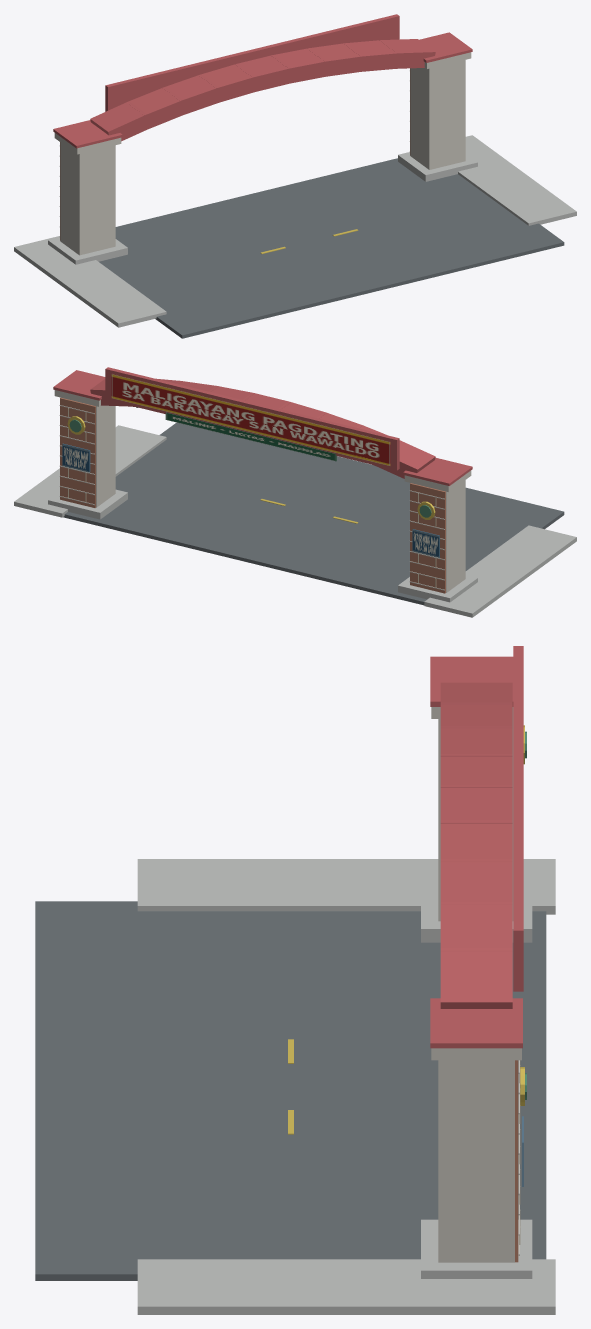
The model's file is Barangay_San_Wawaldo_Welcome_Arch.glb.
3 renders of one model, top to bottom at view 1: azimuth 30°, elevation 25°; view 2: azimuth 150°, elevation 25°; view 3: azimuth 270°, elevation 25°, orthographic. The views are drawn at different scales.
Visible parts, largest first — view 1: 0077_Roadway_Reference_Pad, 0003_Arch_Main_Pillar, 0029_Arch_Main_Pillar, 0080_Arch_Sidewalk, 0064_Arch_Sign_Board, 0081_Arch_Sidewalk, 0055_Curved_Arch_Beam_Segment, 0057_Curved_Arch_Beam_Segment, 0056_Curved_Arch_Beam_Segment, 0058_Curved_Arch_Beam_Segment, 0059_Curved_Arch_Beam_Segment, 0060_Curved_Arch_Beam_Segment (+8 smaller); view 2: 0077_Roadway_Reference_Pad, 0066_Barangay_Welcome_Sign_TexturedFace, 0080_Arch_Sidewalk, 0064_Arch_Sign_Board, 0030_Pillar_Brick_Cladding, 0004_Pillar_Brick_Cladding, 0081_Arch_Sidewalk, 0003_Arch_Main_Pillar, 0029_Arch_Main_Pillar, 0068_Barangay_Motto_TexturedFace, 0026_Pillar_Cap_Accent, 0002_Right_Arch_Foundation (+10 smaller); view 3: 0077_Roadway_Reference_Pad, 0081_Arch_Sidewalk, 0080_Arch_Sidewalk, 0029_Arch_Main_Pillar, 0063_Curved_Arch_Beam_Segment, 0052_Pillar_Cap_Accent, 0064_Arch_Sign_Board, 0062_Curved_Arch_Beam_Segment, 0002_Right_Arch_Foundation, 0061_Curved_Arch_Beam_Segment, 0060_Curved_Arch_Beam_Segment, 0059_Curved_Arch_Beam_Segment (+8 smaller).
Boxes of the visible parts, x1,y1,x2,y2 form: 0077_Roadway_Reference_Pad: (99,158,564,338); 0003_Arch_Main_Pillar: (60,142,115,255); 0029_Arch_Main_Pillar: (410,60,465,169); 0080_Arch_Sidewalk: (14,236,166,327); 0064_Arch_Sign_Board: (105,14,399,111); 0081_Arch_Sidewalk: (458,135,576,225); 0055_Curved_Arch_Beam_Segment: (90,101,149,141); 0057_Curved_Arch_Beam_Segment: (162,74,220,115); 0056_Curved_Arch_Beam_Segment: (126,87,183,128); 0058_Curved_Arch_Beam_Segment: (199,64,255,101); 0059_Curved_Arch_Beam_Segment: (235,55,291,92); 0060_Curved_Arch_Beam_Segment: (271,48,327,83); 0077_Roadway_Reference_Pad: (63,422,564,605); 0066_Barangay_Welcome_Sign_TexturedFace: (111,374,390,465); 0080_Arch_Sidewalk: (424,525,576,617); 0064_Arch_Sign_Board: (105,367,399,470); 0030_Pillar_Brick_Cladding: (60,397,95,507); 0004_Pillar_Brick_Cladding: (410,483,445,593); 0081_Arch_Sidewalk: (14,425,166,517); 0003_Arch_Main_Pillar: (446,480,465,592); 0029_Arch_Main_Pillar: (96,405,115,507); 0068_Barangay_Motto_TexturedFace: (165,412,336,461); 0026_Pillar_Cap_Accent: (403,457,472,485); 0002_Right_Arch_Foundation: (48,489,127,519); 0077_Roadway_Reference_Pad: (35,901,546,1280); 0081_Arch_Sidewalk: (137,1259,555,1314); 0080_Arch_Sidewalk: (137,859,555,914); 0029_Arch_Main_Pillar: (438,1060,514,1262); 0063_Curved_Arch_Beam_Segment: (440,948,512,1008); 0052_Pillar_Cap_Accent: (430,998,522,1048); 0064_Arch_Sign_Board: (513,646,523,991); 0062_Curved_Arch_Beam_Segment: (440,902,512,951); 0002_Right_Arch_Foundation: (421,1219,532,1278); 0061_Curved_Arch_Beam_Segment: (440,859,512,905); 0060_Curved_Arch_Beam_Segment: (440,820,512,862); 0059_Curved_Arch_Beam_Segment: (440,785,512,823).
Size of the model in its own units: 22.8 by 7.28 by 11.2.
Materials: 4 (4 with a texture image).
